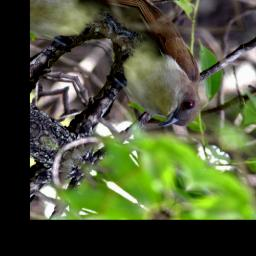Cuckoo: (80, 0, 243, 140)
